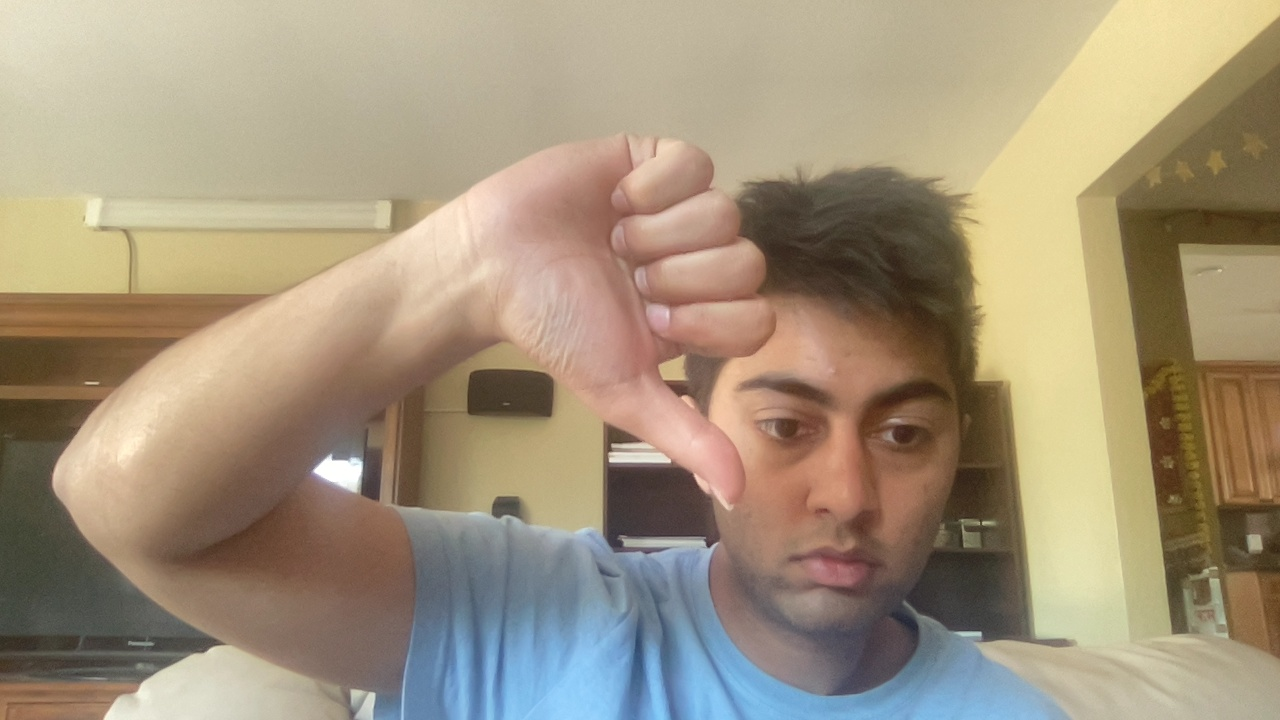ThumbsDown: (481, 134, 777, 514)
